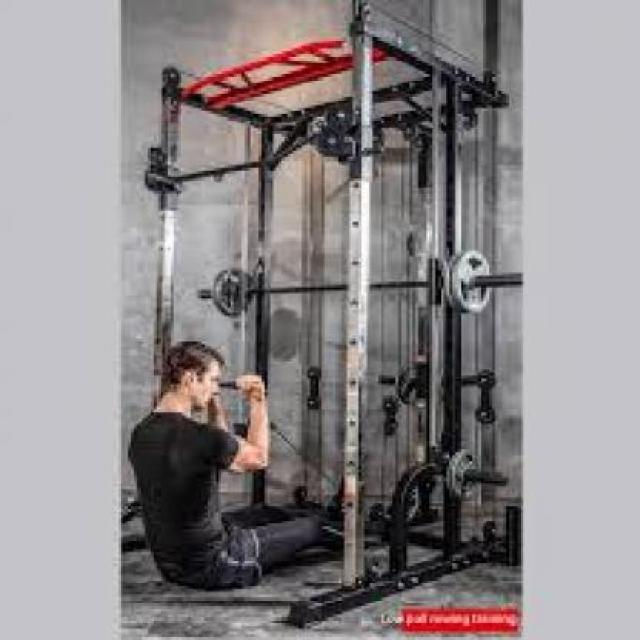smith machine: (146, 0, 522, 603)
